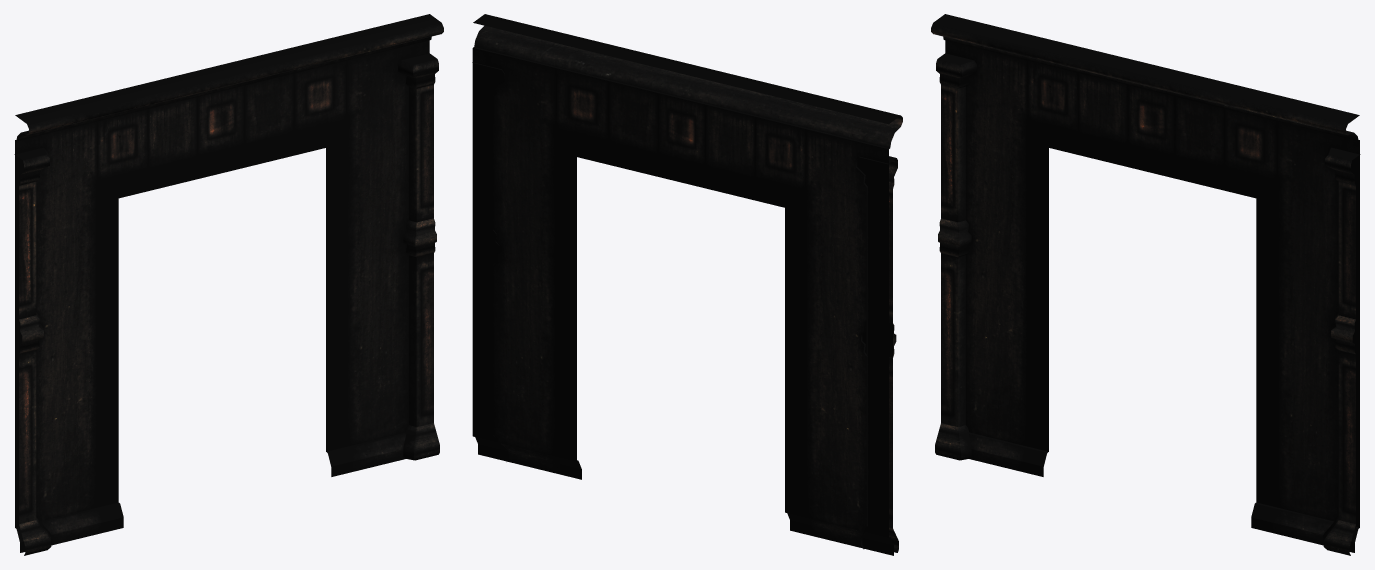
The model's file is door_way02_rotten.dae.
The picture shows the model from 3 angles, left to right: view 1: azimuth 30°, elevation 25°; view 2: azimuth 150°, elevation 25°; view 3: azimuth 330°, elevation 25°; orthographic projection.
Visible parts, largest first — view 1: door_way02; view 2: door_way02; view 3: door_way02.
Boxes of the visible parts, bbox=[...] form: door_way02: bbox=[14, 14, 443, 555]; door_way02: bbox=[472, 14, 902, 555]; door_way02: bbox=[931, 14, 1360, 555].
Bounding box in the file's own units: 4 × 4 × 0.2475.
